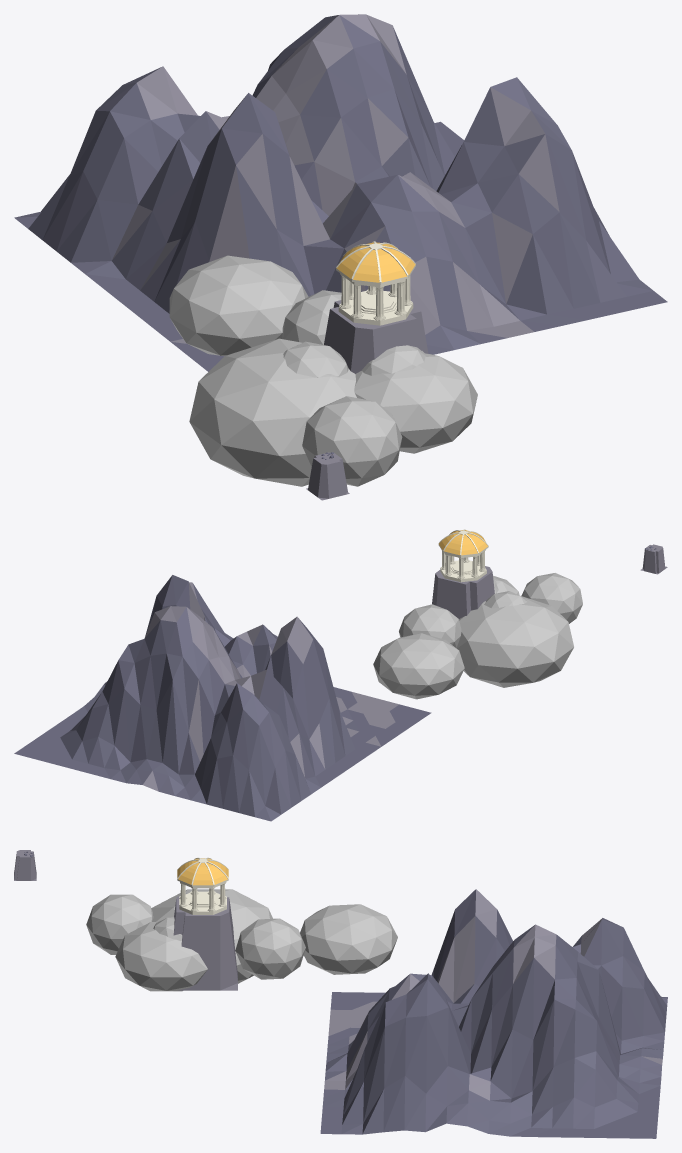
The model's file is fondo_griego.fbx.
3 renders of one model, top to bottom at view 1: azimuth 30°, elevation 25°; view 2: azimuth 150°, elevation 25°; view 3: azimuth 270°, elevation 25°, orthographic. The views are drawn at different scales.
Parts seen in each view (by area): view 1: Fondo_griego; view 2: Fondo_griego; view 3: Fondo_griego.
Part boxes in pixels (x1,y1,x2,y2): Fondo_griego: (14,14,667,500); Fondo_griego: (14,529,667,821); Fondo_griego: (14,850,667,1138).
Bounding box in the file's own units: 12934 × 4644 × 18141.
